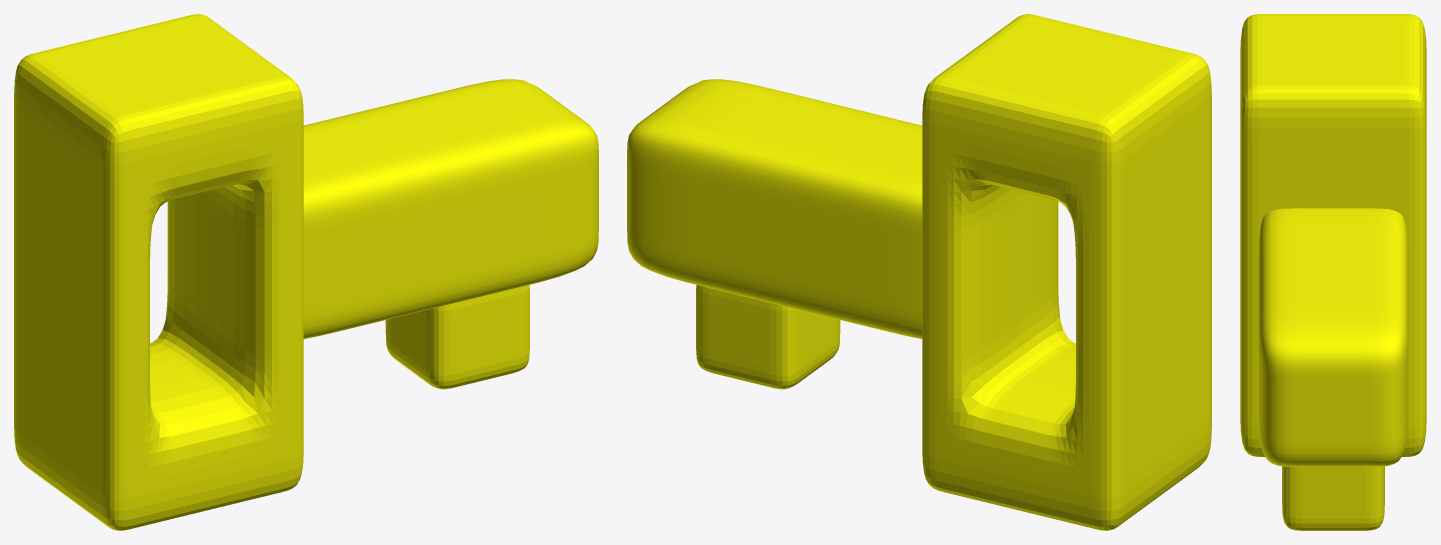
File: Key.obj
3 views of the same model, side by side, from view 1: azimuth 30°, elevation 25°; view 2: azimuth 150°, elevation 25°; view 3: azimuth 270°, elevation 25° (orthographic). The views are drawn at different scales.
Visible parts, largest first — view 1: Cube.001; view 2: Cube.001; view 3: Cube.001.
Boxes of the visible parts, box(x1,y1,x2,y2) form: Cube.001: box(14, 14, 598, 530); Cube.001: box(627, 14, 1211, 530); Cube.001: box(1240, 14, 1426, 530).
Bounding box in the file's own units: 1.03 × 0.8 × 0.3656.
